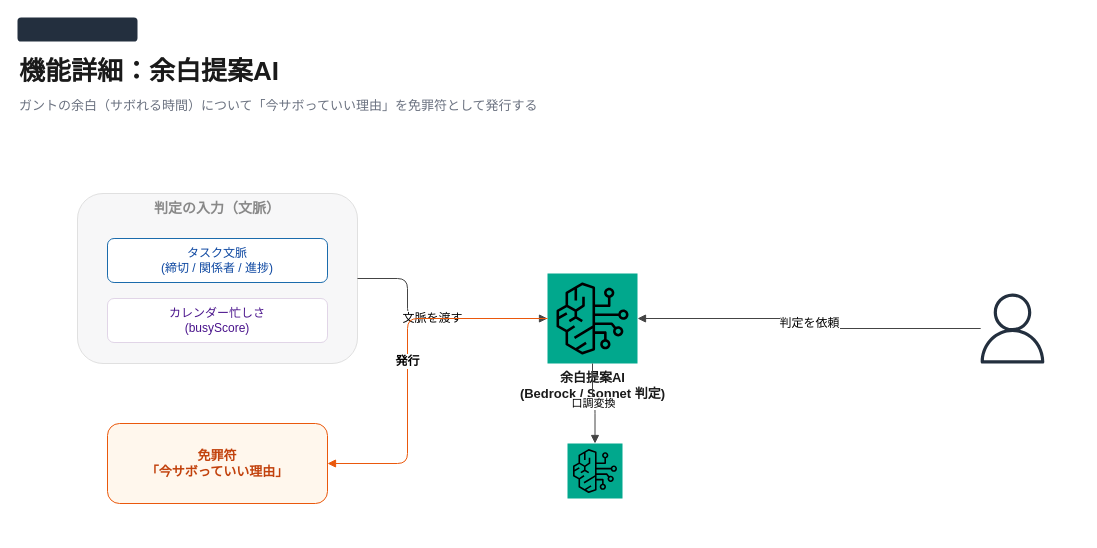
The diagram is 1097 pixels wide and 548 high, and some of its shapes have lost their labels. The centre of each missing label's shape, as x and y in pixels:
③ AIエージェント: point (77, 29)
ユーザー (免罪符チャット / SSE): point (1012, 328)
口調変換 (Bedrock / Haiku 4.5): point (594, 470)
